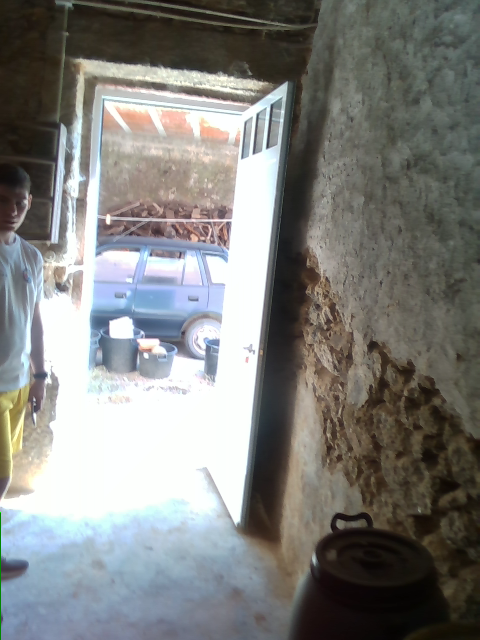open: (62, 60, 292, 526)
